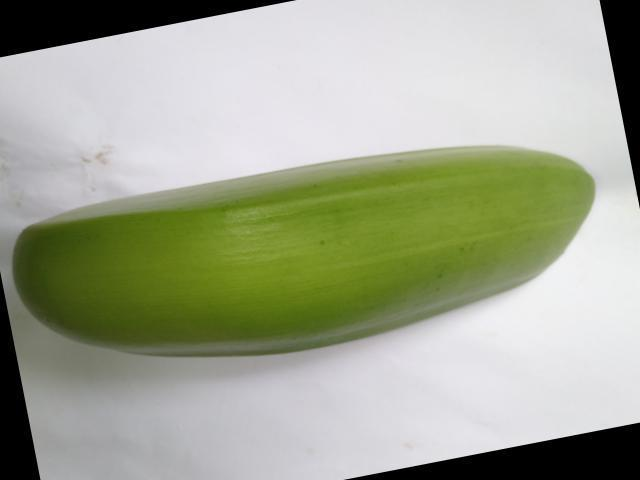freshunripe: (1, 131, 610, 372)
